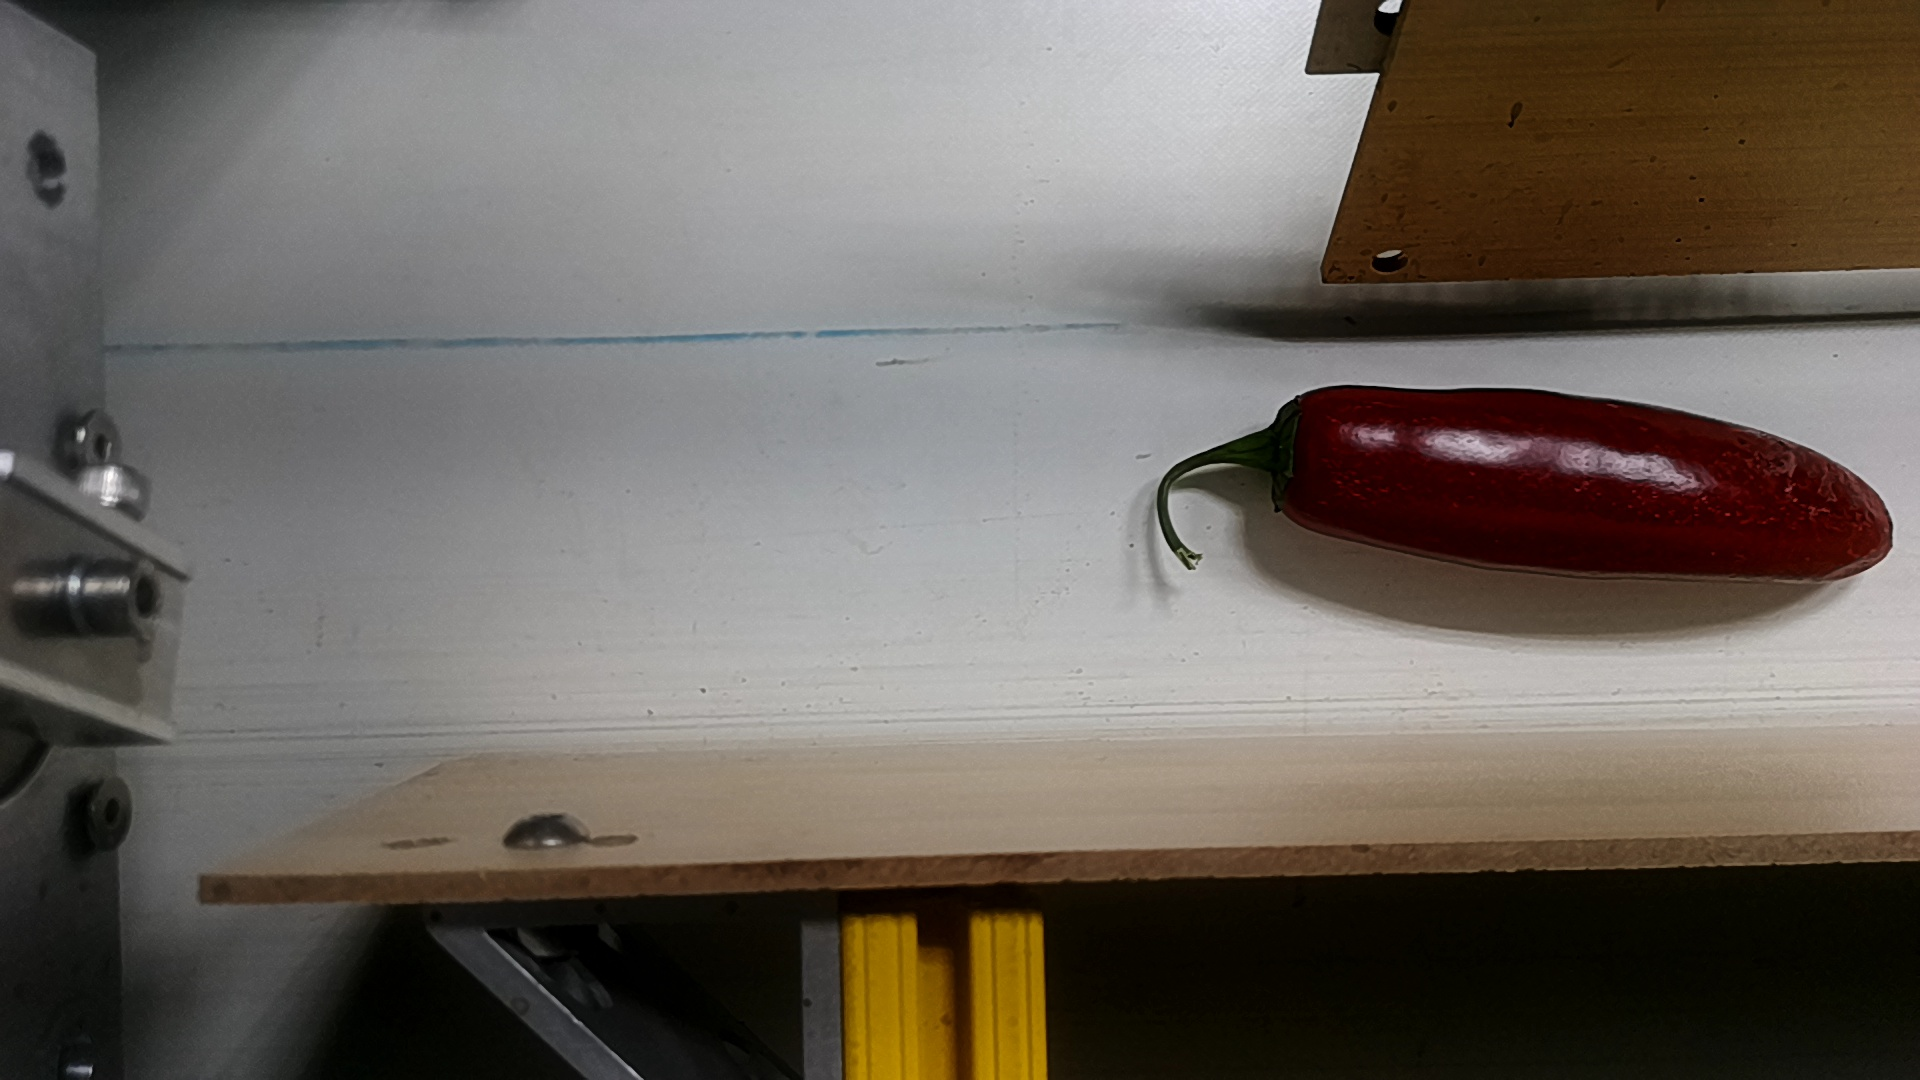Cut Point: (1246, 380, 1346, 541)
